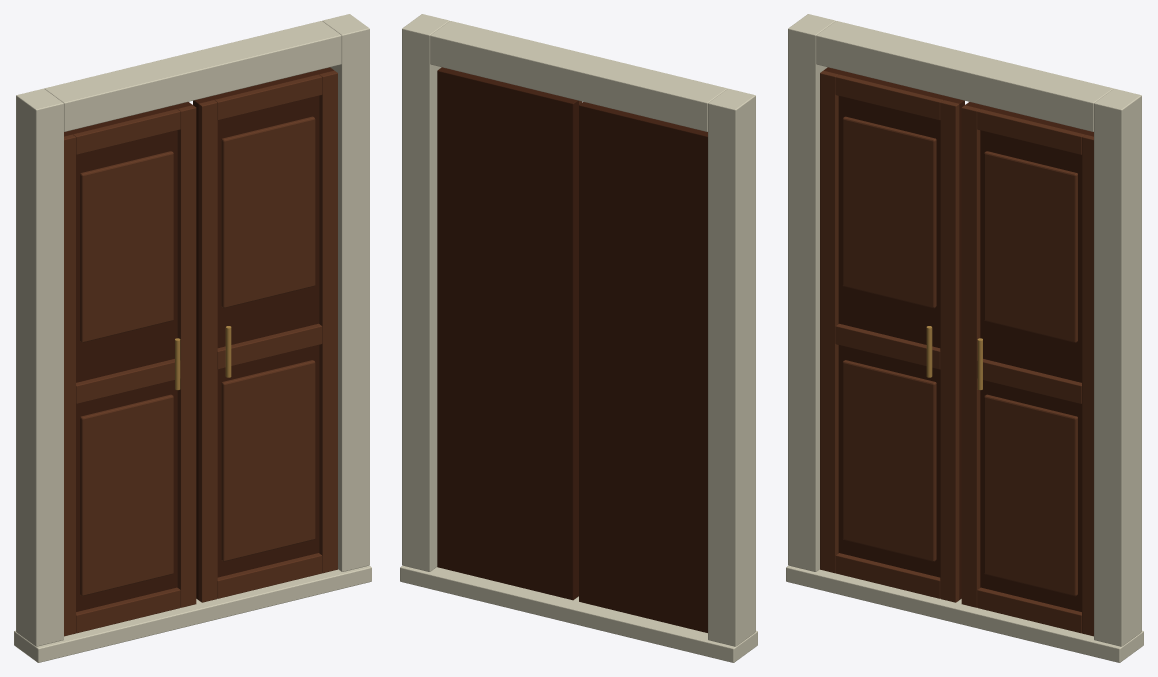
3 views of the same model, side by side, from view 1: azimuth 30°, elevation 25°; view 2: azimuth 150°, elevation 25°; view 3: azimuth 330°, elevation 25° (orthographic).
Parts seen in each view (by area): view 1: DOOR_Jamb, DOOR_Jamb.001, Right_RaisedPanel, Left_RaisedPanel, Right_RaisedPanel.001, Left_RaisedPanel.001, Right_Core, DOOR_Header, Left_Core, Right_Stile.001, Left_Stile.001, Right_Stile (+8 smaller); view 2: Right_Core, Left_Core, DOOR_Jamb, DOOR_Jamb.001, DOOR_Header, DOOR_Sill; view 3: DOOR_Jamb.001, DOOR_Jamb, Left_RaisedPanel, Right_RaisedPanel, Left_RaisedPanel.001, Right_RaisedPanel.001, Left_Core, DOOR_Header, Right_Core, Left_Stile.001, Right_Stile.001, Left_Stile (+8 smaller).
Boxes of the visible parts, x1=… form: DOOR_Jamb: x1=16, y1=88, x2=63, y2=646; DOOR_Jamb.001: x1=322, y1=14, x2=369, y2=571; Right_RaisedPanel: x1=221, y1=360, x2=315, y2=561; Left_RaisedPanel: x1=80, y1=394, x2=173, y2=596; Right_RaisedPanel.001: x1=221, y1=116, x2=315, y2=308; Left_RaisedPanel.001: x1=80, y1=151, x2=173, y2=342; Right_Core: x1=193, y1=67, x2=333, y2=599; DOOR_Header: x1=44, y1=21, x2=341, y2=131; Left_Core: x1=64, y1=102, x2=192, y2=611; Right_Stile.001: x1=198, y1=100, x2=217, y2=602; Left_Stile.001: x1=177, y1=105, x2=196, y2=607; Right_Stile: x1=319, y1=70, x2=337, y2=573; Right_Core: x1=437, y1=67, x2=578, y2=600; Left_Core: x1=579, y1=102, x2=707, y2=632; DOOR_Jamb: x1=708, y1=88, x2=755, y2=646; DOOR_Jamb.001: x1=402, y1=14, x2=449, y2=571; DOOR_Header: x1=430, y1=21, x2=727, y2=131; DOOR_Sill: x1=400, y1=565, x2=757, y2=662; DOOR_Jamb.001: x1=1094, y1=88, x2=1141, y2=646; DOOR_Jamb: x1=788, y1=14, x2=835, y2=571; Left_RaisedPanel: x1=842, y1=360, x2=936, y2=561; Right_RaisedPanel: x1=984, y1=394, x2=1077, y2=596; Left_RaisedPanel.001: x1=842, y1=116, x2=936, y2=308; Right_RaisedPanel.001: x1=984, y1=151, x2=1077, y2=342; Left_Core: x1=824, y1=67, x2=964, y2=599; DOOR_Header: x1=816, y1=21, x2=1113, y2=131; Right_Core: x1=965, y1=102, x2=1093, y2=611; Left_Stile.001: x1=940, y1=100, x2=959, y2=602; Right_Stile.001: x1=961, y1=105, x2=980, y2=607; Left_Stile: x1=820, y1=70, x2=838, y2=573.
Size of the model in its own units: 1.9 by 3 by 0.24.
